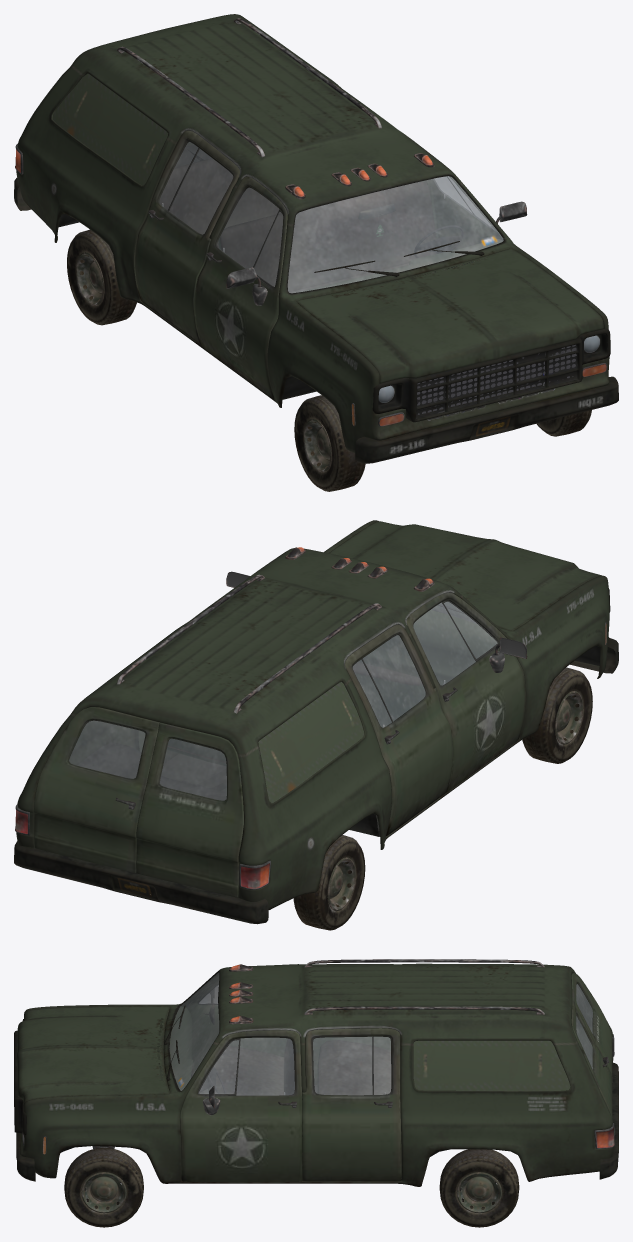
File: military-truck.glb
3 renders of one model, top to bottom at view 1: azimuth 30°, elevation 25°; view 2: azimuth 150°, elevation 25°; view 3: azimuth 270°, elevation 25°, orthographic. The views are drawn at different scales.
Visible parts, largest first — view 1: Material, Material3, glass, Material2; view 2: Material, Material2, Material3, glass; view 3: Material, Material2, Material3, glass.
Part boxes in pixels (x1,y1,x2,y2): Material: (14,14,618,463); Material3: (15,18,607,491); glass: (52,73,503,293); Material2: (58,130,554,419); Material: (14,520,618,924); Material2: (33,592,600,897); Material3: (15,547,606,930); glass: (69,601,497,803); Material: (14,963,618,1186); Material2: (60,973,612,1181); Material3: (22,959,614,1227); glass: (169,972,592,1095).
Size of the model in its own units: 2.32 by 1.74 by 4.91.
4 materials, 4 textured.
